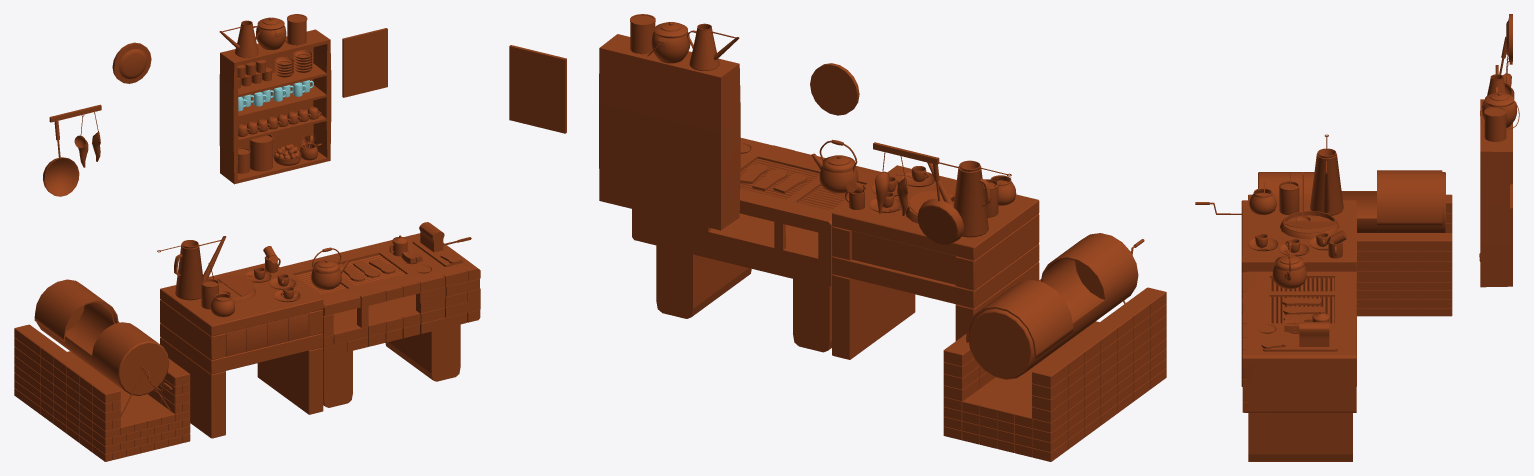
Rendered from M006_CoffeeStoryMural2.fbx.
3 renders of one model, left to right at view 1: azimuth 30°, elevation 25°; view 2: azimuth 150°, elevation 25°; view 3: azimuth 270°, elevation 25°, orthographic. The views are drawn at different scales.
Visible parts, largest first — view 1: Background, Roaster, TableM, TableR; view 2: Background, Roaster, TableM, TableR; view 3: TableR, Roaster, TableM, Background.
Part boxes in pixels (box(x1,y1,x2,y2)): Background: box(43, 14, 387, 196); Roaster: box(14, 279, 190, 461); TableM: box(157, 236, 323, 438); TableR: box(280, 222, 480, 407); Background: box(509, 14, 963, 244); Roaster: box(943, 233, 1166, 461); TableM: box(832, 160, 1039, 359); TableR: box(632, 137, 881, 352); TableR: box(1242, 241, 1356, 461); Roaster: box(1195, 170, 1452, 316); TableM: box(1241, 134, 1356, 386); Background: box(1479, 14, 1519, 287).
Bounding box in the file's own units: 3.45 × 2.45 × 2.17.
